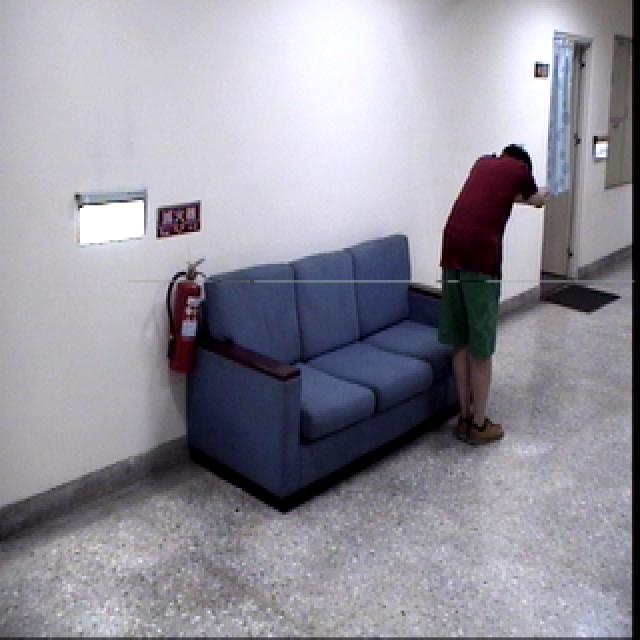bend: (435, 143, 560, 454)
